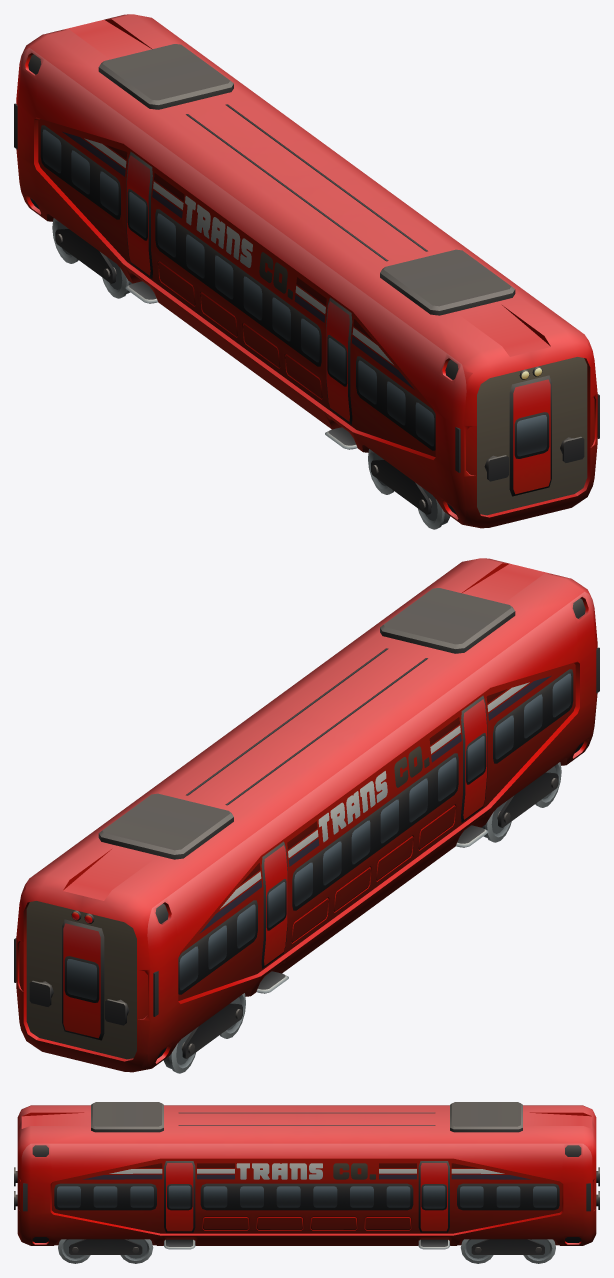
Rendered from Train_Cart_3A.fbx.
The picture shows the model from 3 angles, top to bottom: view 1: azimuth 30°, elevation 25°; view 2: azimuth 150°, elevation 25°; view 3: azimuth 270°, elevation 25°; orthographic projection. The views are drawn at different scales.
Parts seen in each view (by area): view 1: Train_Cart_3A, Train_Cart_3A_Livery; view 2: Train_Cart_3A, Train_Cart_3A_Livery; view 3: Train_Cart_3A, Train_Cart_3A_Livery, Train_Cart_3A_Wheel_M2.L, Train_Cart_3A_Wheel_R.L, Train_Cart_3A_Wheel_M1.L, Train_Cart_3A_Wheel_F.L.
Boxes of the visible parts, <box> form: Train_Cart_3A: <box>14,14,599,528</box>; Train_Cart_3A_Livery: <box>62,131,414,389</box>; Train_Cart_3A: <box>14,558,599,1072</box>; Train_Cart_3A_Livery: <box>199,675,551,933</box>; Train_Cart_3A: <box>14,1102,599,1254</box>; Train_Cart_3A_Livery: <box>83,1163,530,1179</box>; Train_Cart_3A_Wheel_M2.L: <box>460,1239,493,1263</box>; Train_Cart_3A_Wheel_R.L: <box>523,1239,555,1263</box>; Train_Cart_3A_Wheel_M1.L: <box>120,1239,153,1263</box>; Train_Cart_3A_Wheel_F.L: <box>58,1239,90,1263</box>.
Size of the model in its own units: 2.92 by 3.95 by 16.
